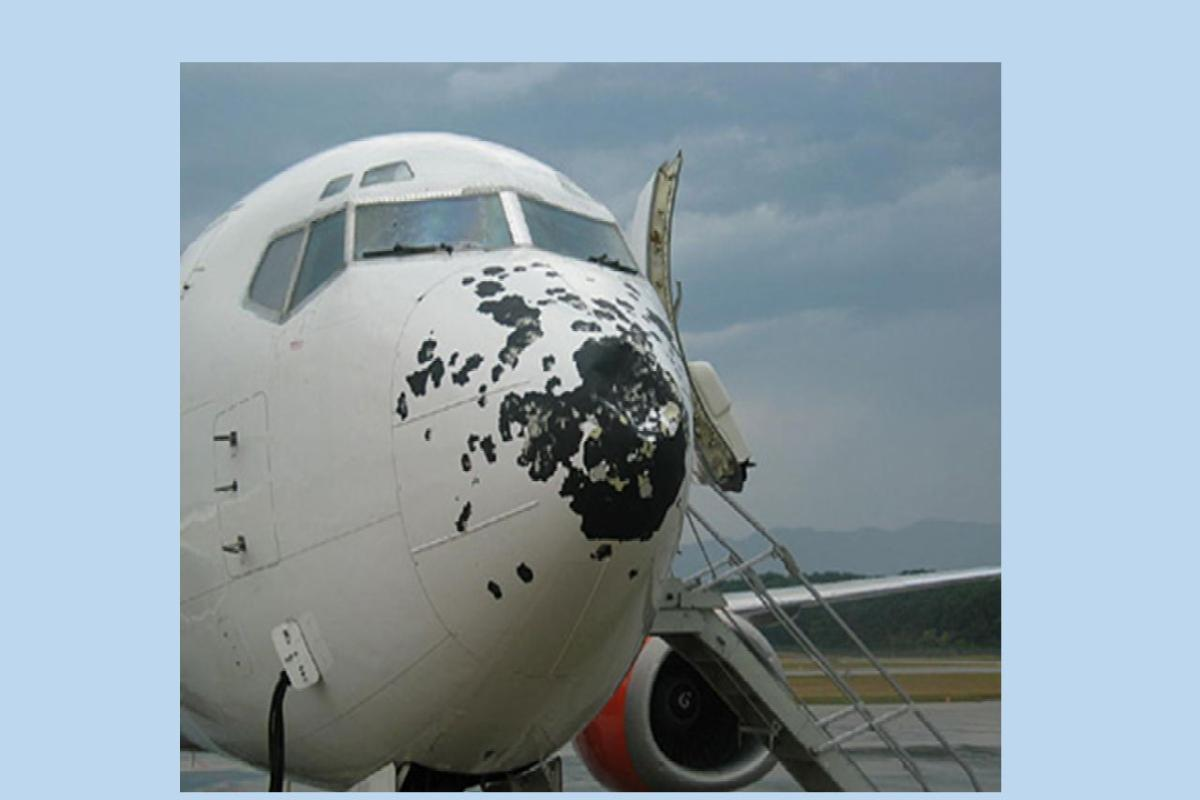Fuselage_damage: (393, 253, 696, 615)
